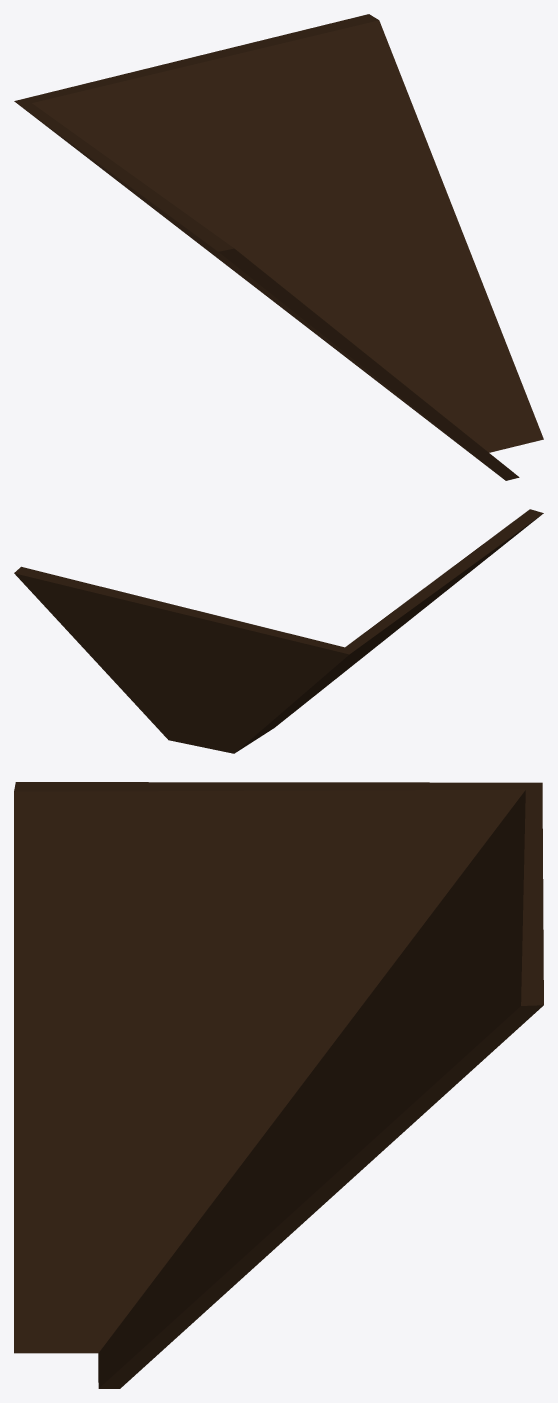
File: RoofInnerCorner_DP_0910.fbx
3 renders of one model, top to bottom at view 1: azimuth 30°, elevation 25°; view 2: azimuth 150°, elevation 25°; view 3: azimuth 270°, elevation 25°, orthographic. The views are drawn at different scales.
Visible parts, largest first — view 1: Roof.002; view 2: Roof.002; view 3: Roof.002.
Boxes of the visible parts, <box> form: Roof.002: <box>14,14,543,480</box>; Roof.002: <box>14,509,543,753</box>; Roof.002: <box>14,782,543,1388</box>.
Bounding box in the file's own units: 502 × 400 × 502.
